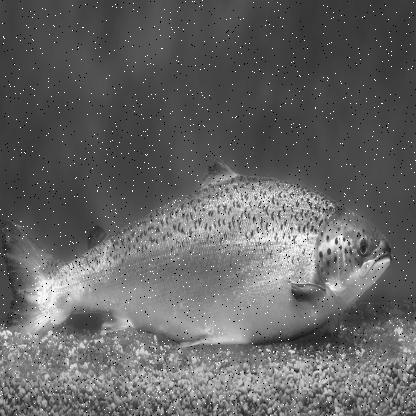fish: (2, 154, 392, 352)
